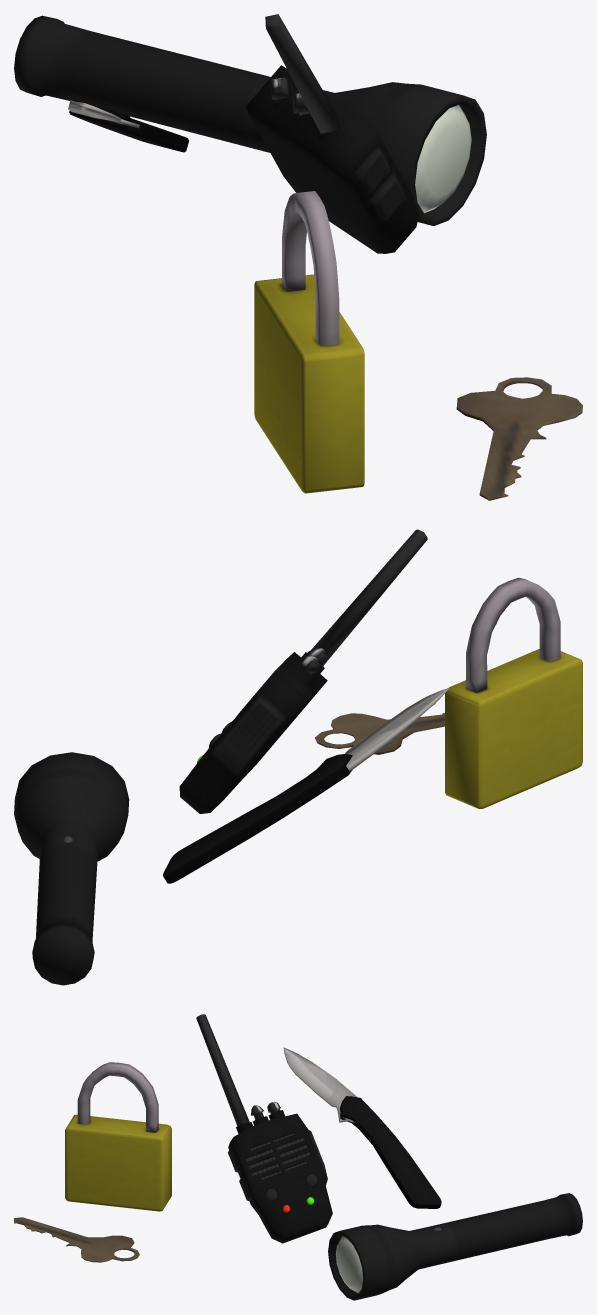
File: PSXHorrorKit_MultiTexture.obj
3 renders of one model, top to bottom at view 1: azimuth 30°, elevation 25°; view 2: azimuth 150°, elevation 25°; view 3: azimuth 270°, elevation 25°, orthographic. The views are drawn at different scales.
Visible parts, largest first — view 1: Flashlight_Material.001, Lock_Body_Material.001, Radio_Material.001, Key_Material.001, Lock_Bar_Material.001, Radio_Antenna_Material.001, Knife_Handle_Material.001, Knife_Blade_Material.001; view 2: Flashlight_Material.001, Lock_Body_Material.001, Radio_Material.001, Knife_Handle_Material.001, Lock_Bar_Material.001, Radio_Antenna_Material.001, Key_Material.001, Knife_Blade_Material.001; view 3: Flashlight_Material.001, Lock_Body_Material.001, Radio_Material.001, Knife_Handle_Material.001, Lock_Bar_Material.001, Key_Material.001, Knife_Blade_Material.001, Radio_Antenna_Material.001, Radio_Speaker_Material.001.
Boxes of the visible parts, <box> form: Flashlight_Material.001: <box>14,15,486,225</box>; Lock_Body_Material.001: <box>254,274,364,493</box>; Radio_Material.001: <box>245,65,418,253</box>; Key_Material.001: <box>456,377,582,500</box>; Lock_Bar_Material.001: <box>282,191,339,346</box>; Radio_Antenna_Material.001: <box>265,14,338,133</box>; Knife_Handle_Material.001: <box>69,100,188,152</box>; Knife_Blade_Material.001: <box>68,100,139,128</box>; Flashlight_Material.001: <box>14,752,129,985</box>; Lock_Body_Material.001: <box>445,649,582,808</box>; Radio_Material.001: <box>179,652,327,813</box>; Knife_Handle_Material.001: <box>163,754,352,883</box>; Lock_Bar_Material.001: <box>466,577,560,692</box>; Radio_Antenna_Material.001: <box>308,529,427,666</box>; Key_Material.001: <box>315,713,444,754</box>; Knife_Blade_Material.001: <box>322,687,449,771</box>; Flashlight_Material.001: <box>328,1193,582,1300</box>; Lock_Body_Material.001: <box>65,1114,171,1211</box>; Radio_Material.001: <box>228,1110,332,1243</box>; Knife_Handle_Material.001: <box>340,1096,441,1208</box>; Lock_Bar_Material.001: <box>77,1062,158,1132</box>; Key_Material.001: <box>14,1217,139,1262</box>; Knife_Blade_Material.001: <box>283,1047,357,1122</box>; Radio_Antenna_Material.001: <box>196,1014,249,1126</box>; Radio_Speaker_Material.001: <box>246,1133,310,1179</box>.
Bounding box in the file's own units: 4.1 × 3.09 × 7.87.
